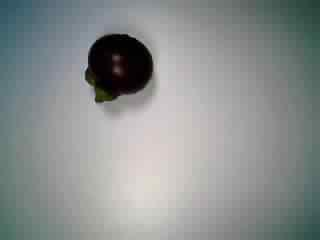mangosteen: (81, 30, 157, 109)
